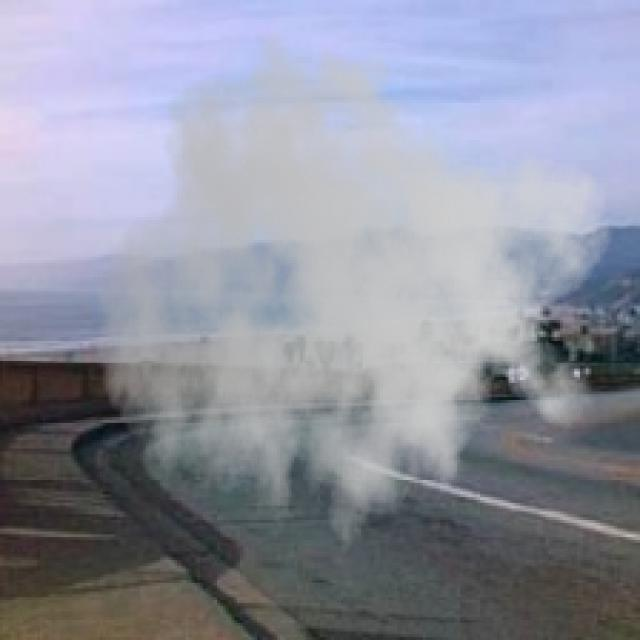Smoke: (95, 17, 614, 577)
